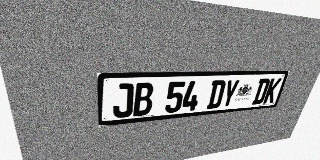4: (181, 81, 202, 112)
5: (165, 81, 186, 113)
B: (133, 82, 154, 116)
D: (206, 80, 227, 109), (251, 78, 271, 105)
J: (113, 83, 134, 118)
K: (263, 78, 282, 104)
Y: (220, 79, 240, 108)
